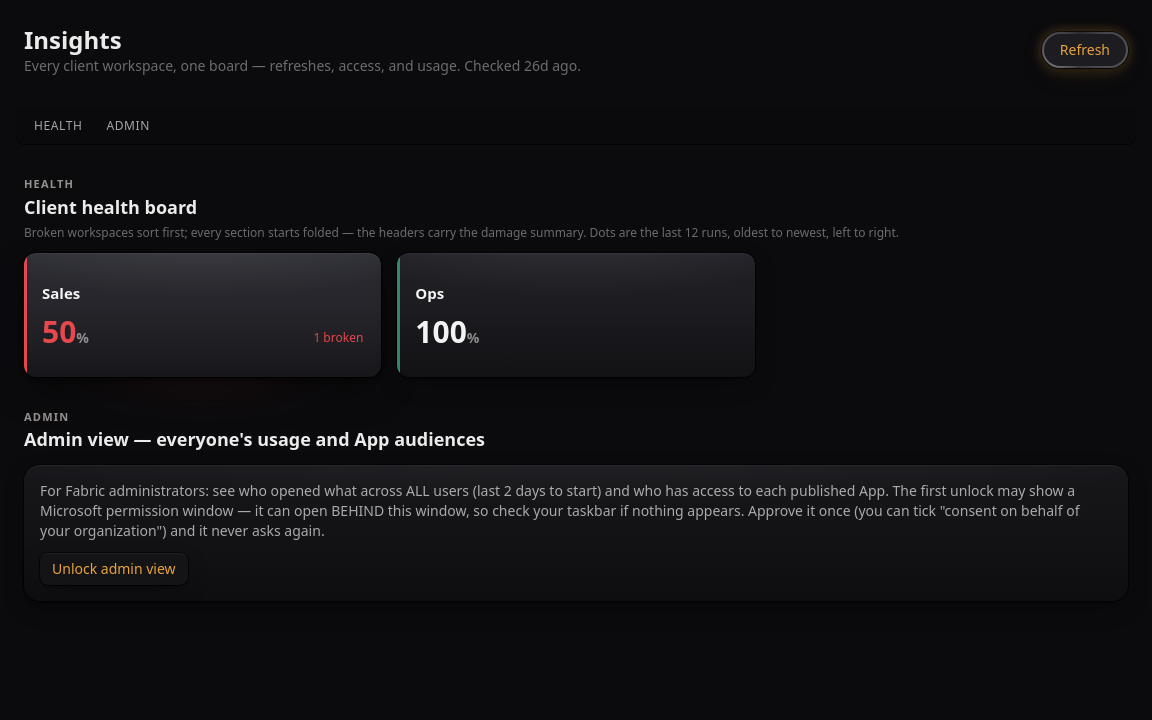
InsightsPage — admin tier (owner-only) › requests a 2-day window and surfaces ADMIN_REQUIRED as a friendly message
Click the button "Unlock admin view" at [114, 569], box x1=40 y1=553 x2=188 y2=585
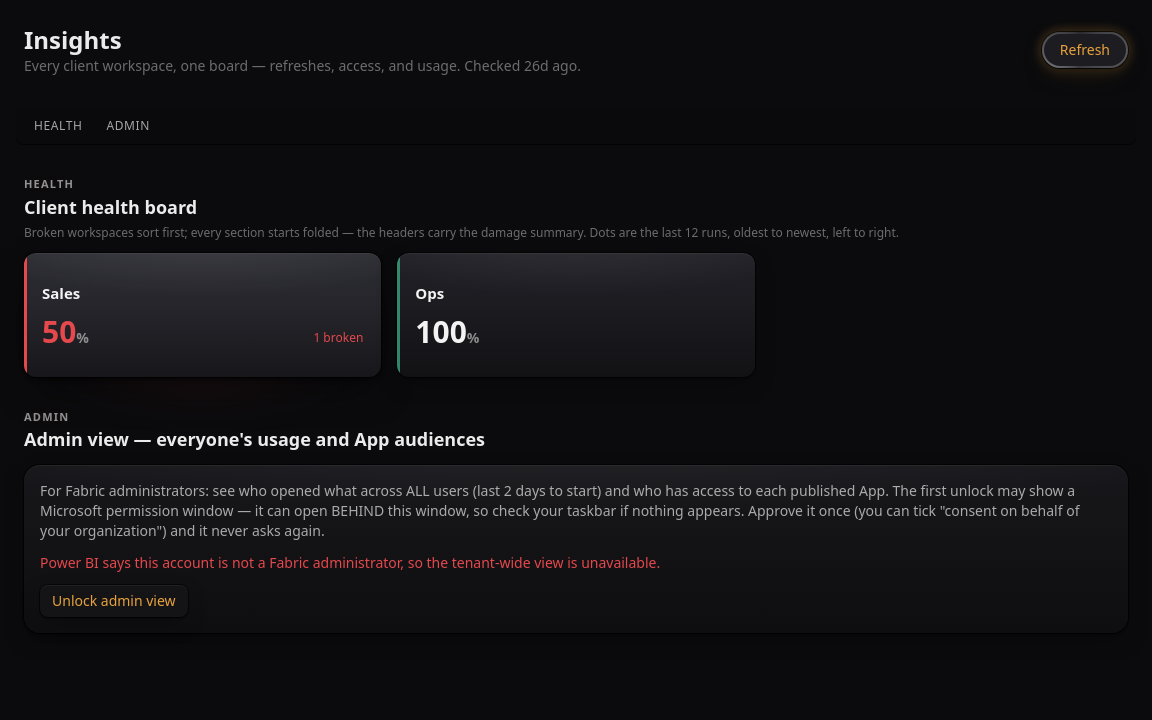
Check: the message shows "not a Fabric administrator", box x1=40 y1=553 x2=660 y2=572
